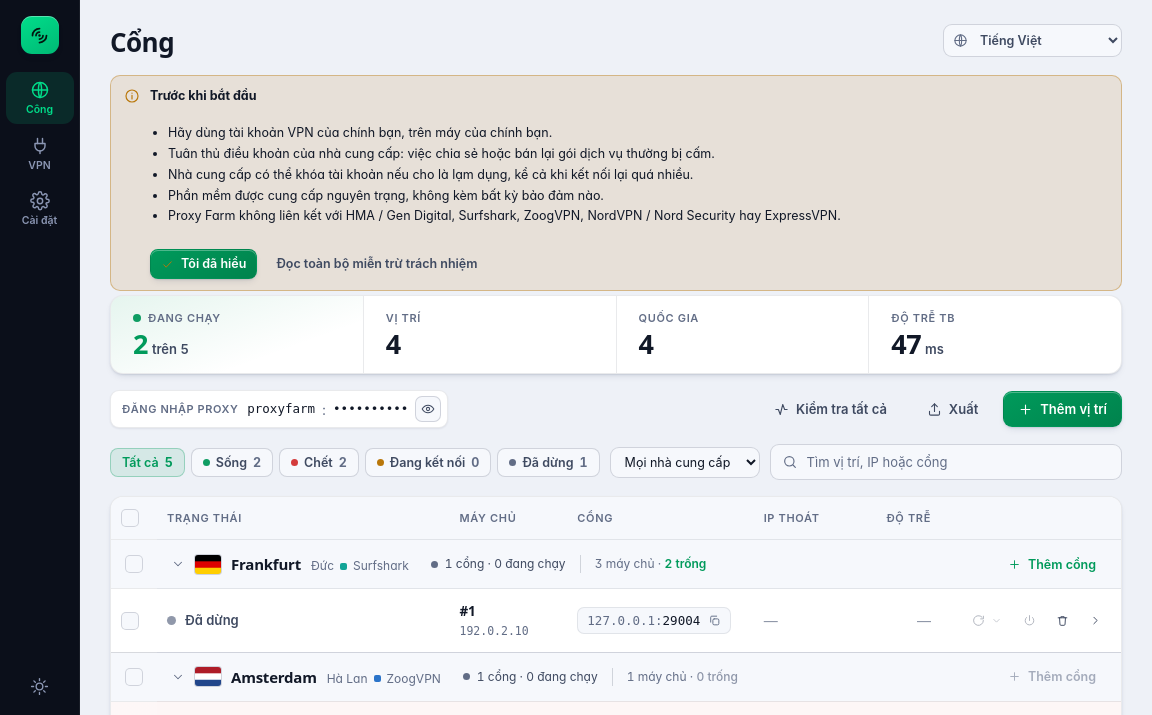
Scenario: App › switches language from the header, not only from Settings (fix item 3)
The width and height of the screenshot is (1152, 715).
Select "Tiếng Anh" in the dropdown named "Ngôn ngữ": (1032, 40) 943,24 -> 1122,57
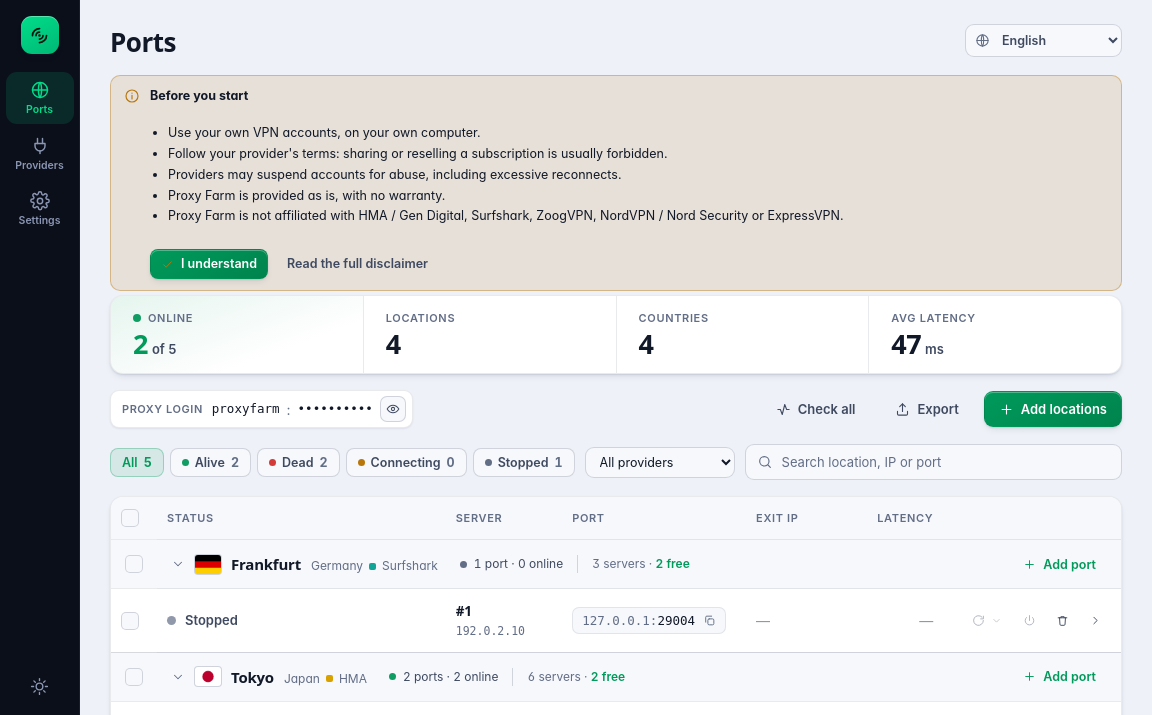
Expected: the text "Providers" is shown, 15,160 -> 64,172
# Switch back so later tests in this file see the default (Vietnamese) again.
Select "Vietnamese" in the dropdown named "Language": (1044, 40) 965,24 -> 1122,57
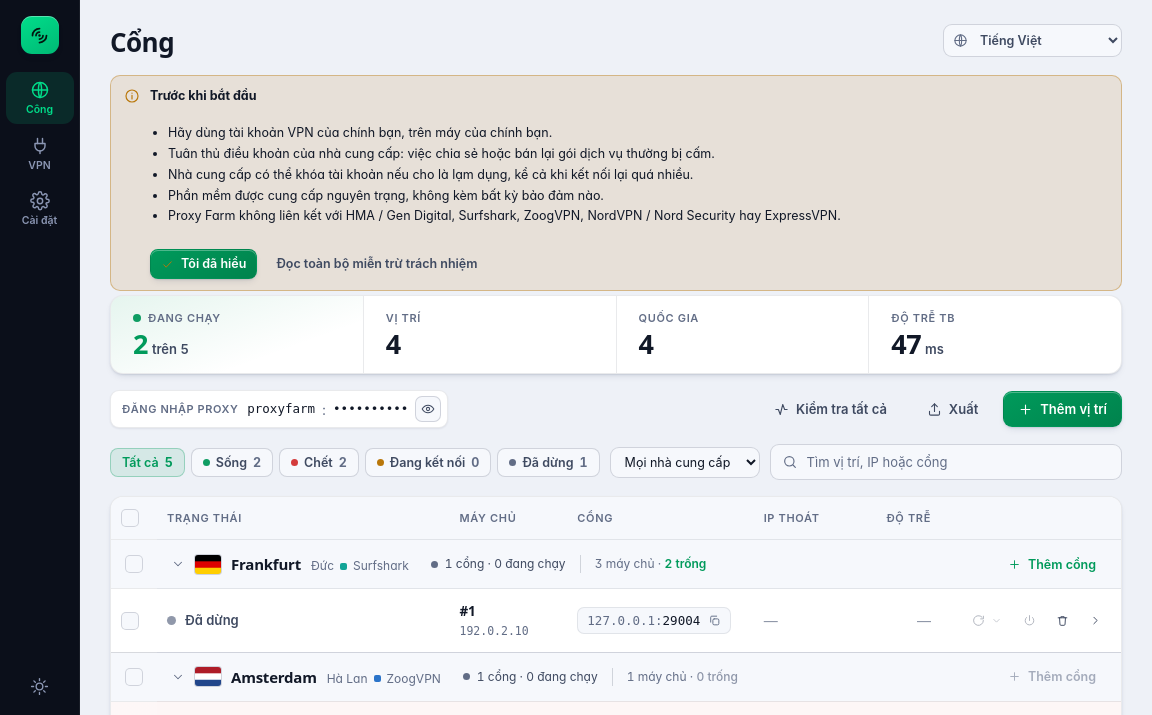
Expected: the text "Cài đặt" is shown, 22,215 -> 57,228
